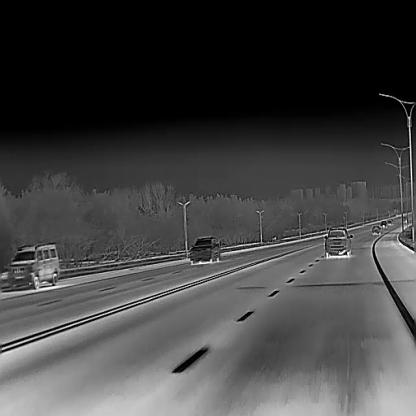car: (7, 242, 59, 288), (188, 235, 220, 262), (324, 227, 353, 256), (372, 225, 380, 233), (380, 220, 386, 225), (388, 220, 390, 224)
